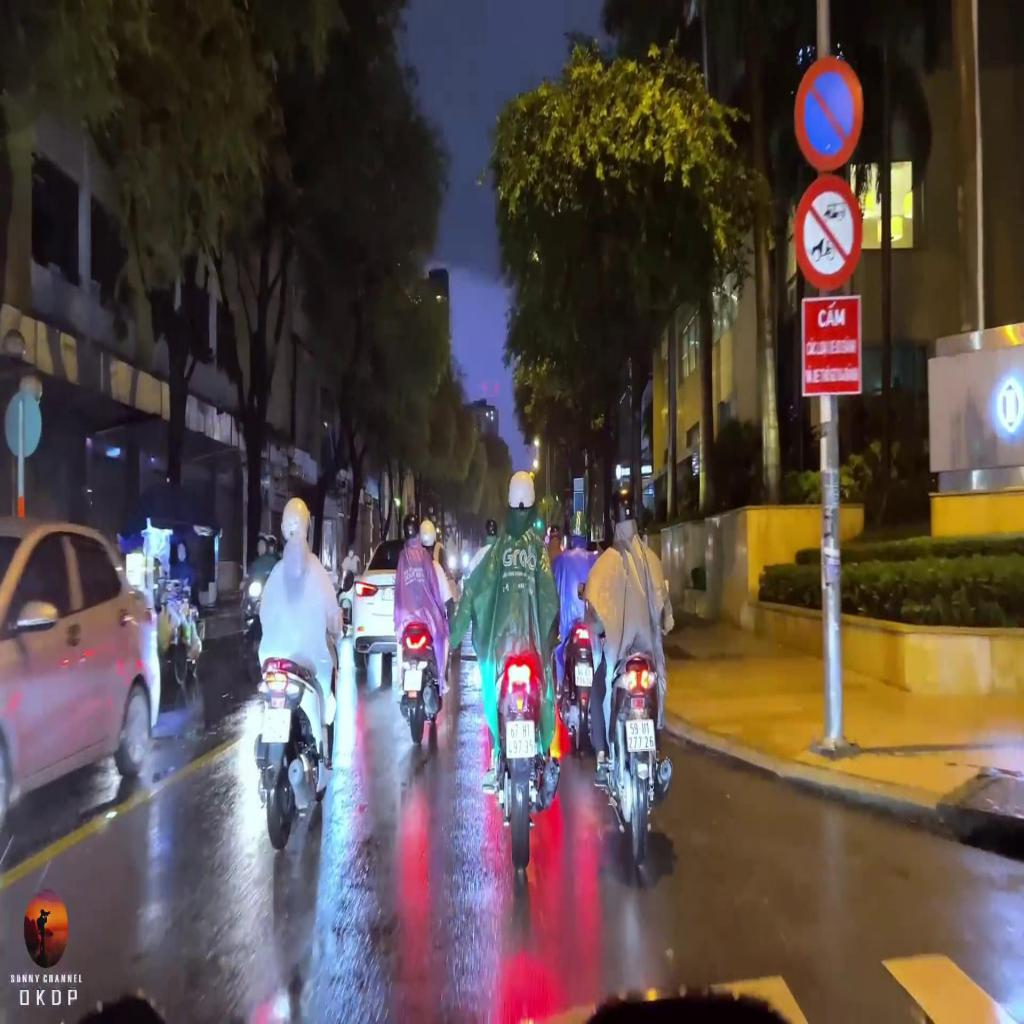cam_cac_loai_xe_3_banh: (793, 174, 862, 289)
cam_do_xe: (794, 55, 863, 171)
